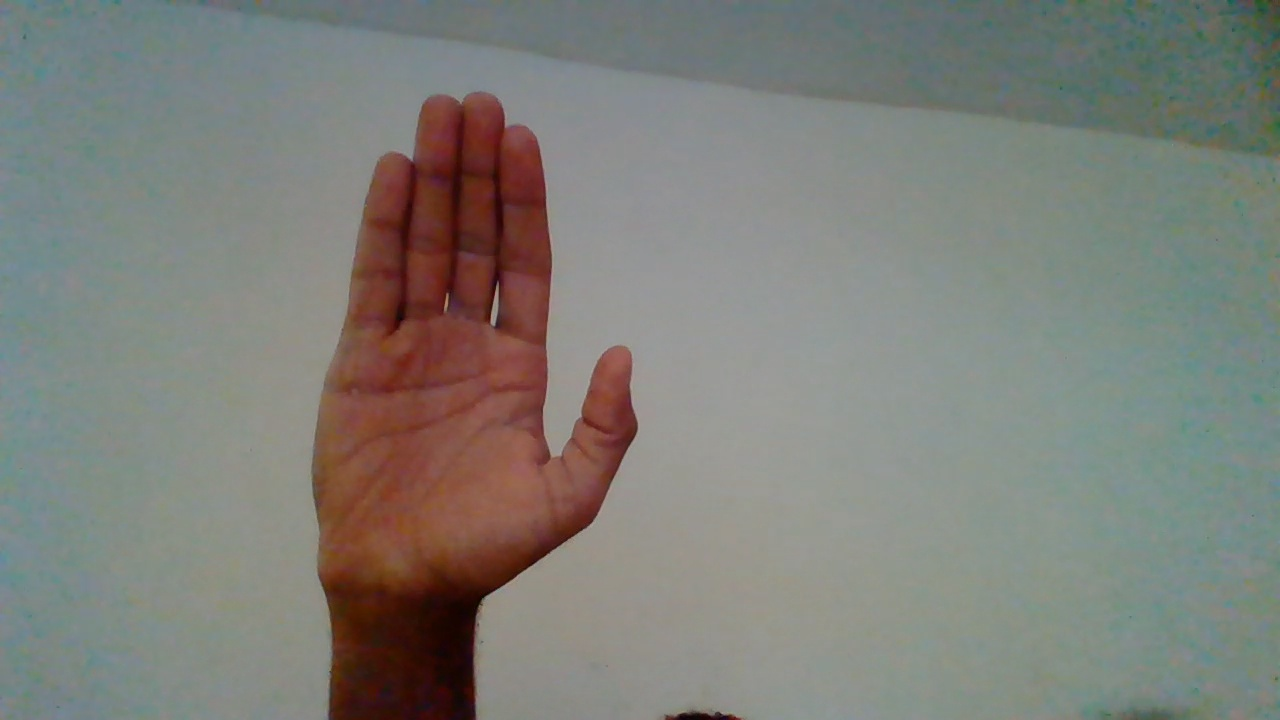ha: (312, 87, 647, 711)
